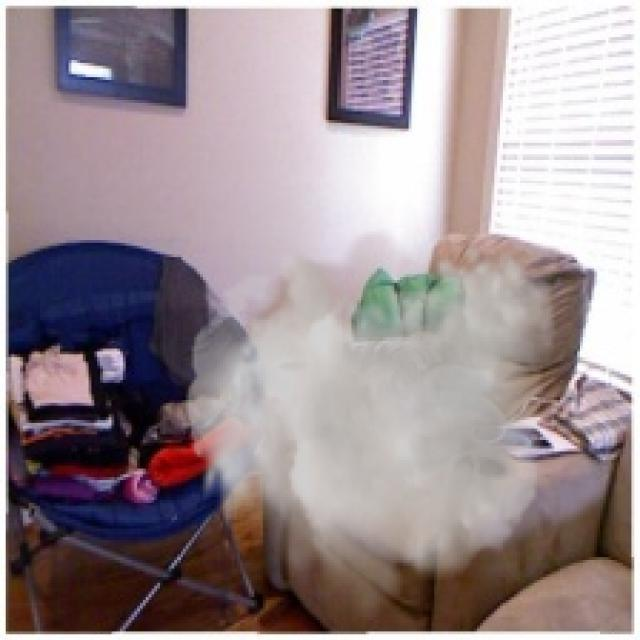Smoke: (185, 237, 558, 629)
